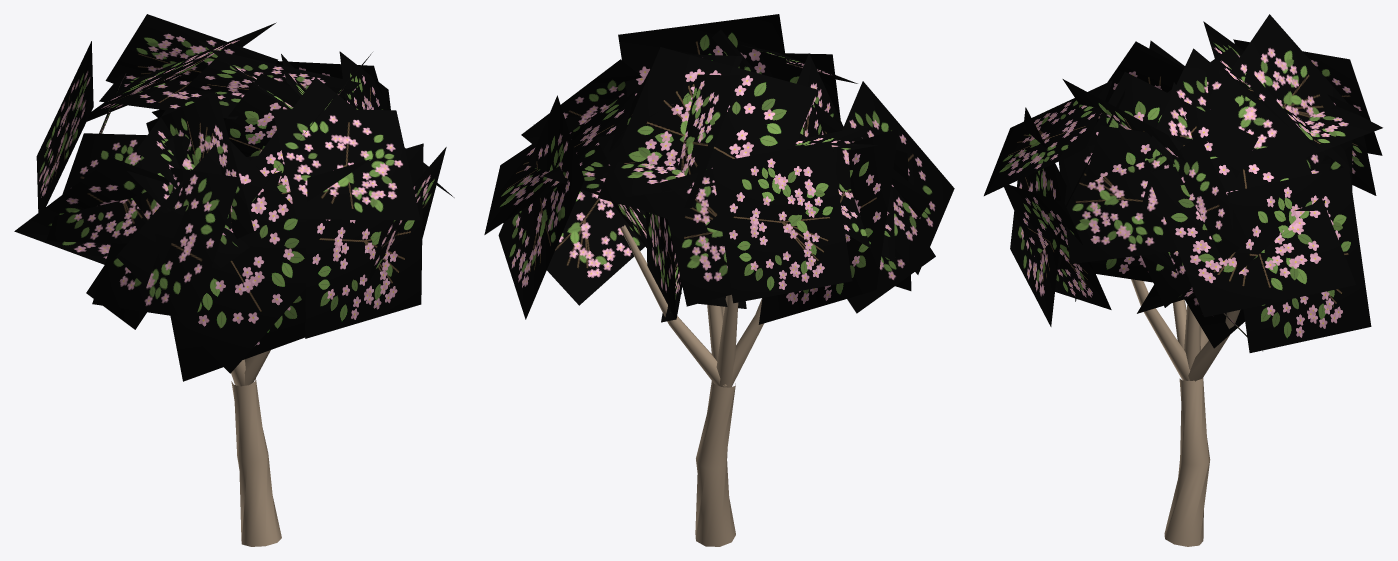
File: prunus-serrulata.glb
3 renders of one model, left to right at view 1: azimuth 30°, elevation 25°; view 2: azimuth 150°, elevation 25°; view 3: azimuth 270°, elevation 25°, orthographic. The views are drawn at different scales.
Parts seen in each view (by area): view 1: folhas, tronco; view 2: folhas, tronco; view 3: folhas, tronco.
Boxes of the visible parts, bbox=[...] form: folhas: bbox=[14, 14, 454, 381]; tronco: bbox=[231, 149, 281, 546]; folhas: bbox=[484, 14, 954, 324]; tronco: bbox=[620, 225, 763, 546]; folhas: bbox=[984, 14, 1382, 352]; tronco: bbox=[1131, 279, 1240, 546].
Size of the model in its own units: 5 by 6 by 4.4.
2 materials, 1 textured.
